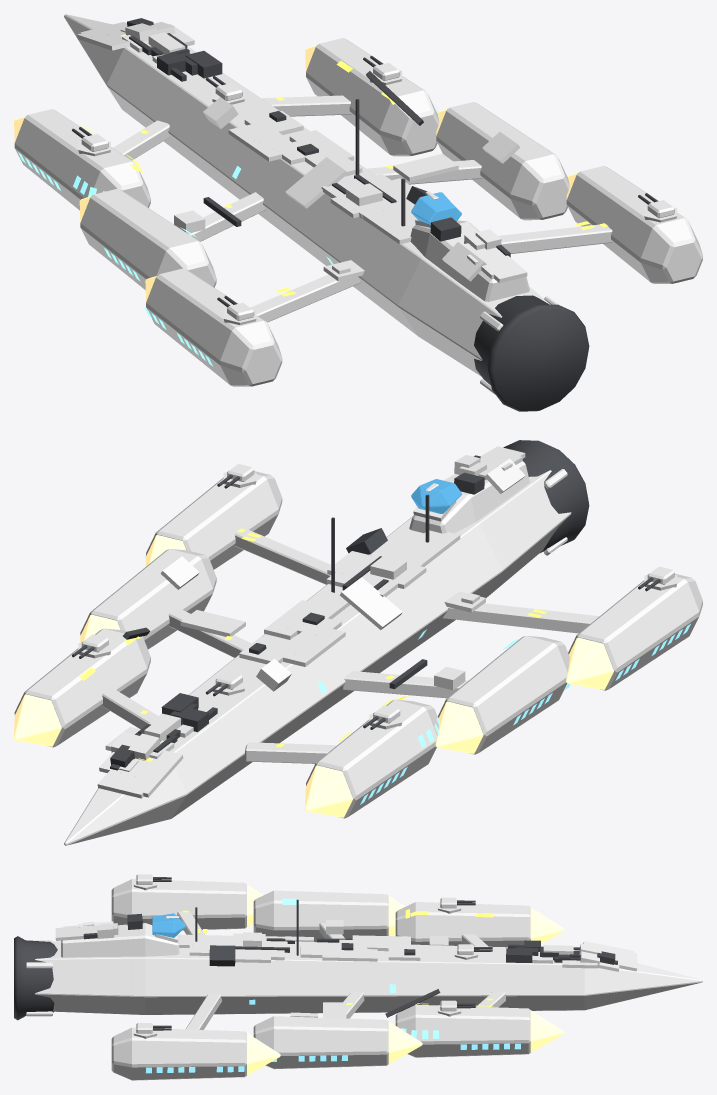
File: burya.glb
3 views of the same model, one above another, from view 1: azimuth 30°, elevation 25°; view 2: azimuth 150°, elevation 25°; view 3: azimuth 270°, elevation 25° (orthographic). The views are drawn at different scales.
Visible parts, largest first — view 1: Хребет, Накладные_плиты, Кожух_дюзы, Ракетная_капсула.005, Ракетная_капсула.004, Ракетная_капсула.002, Ракетная_капсула, Ракетная_капсула.003, Ракетная_капсула.001, Механика, Рубка, Пилон.004 (+7 smaller); view 2: Хребет, Накладные_плиты, Ракетная_капсула.003, Ракетная_капсула.005, Ракетная_капсула.001, Ракетная_капсула, Ракетная_капсула.004, Ракетная_капсула.002, Механика, Кожух_дюзы, Пилон.005, Рубка (+11 smaller); view 3: Хребет, Накладные_плиты, Ракетная_капсула.004, Ракетная_капсула.002, Ракетная_капсула, Ракетная_капсула.003, Ракетная_капсула.005, Ракетная_капсула.001, Механика, Кожух_дюзы, Рубка, Решётки (+11 smaller).
Part boxes in pixels (<box>): Хребет: <box>64,14,550,376</box>; Накладные_плиты: <box>77,21,527,283</box>; Кожух_дюзы: <box>474,295,589,411</box>; Ракетная_капсула.005: <box>146,268,282,386</box>; Ракетная_капсула.004: <box>566,166,702,283</box>; Ракетная_капсула.002: <box>436,102,569,220</box>; Ракетная_капсула: <box>306,38,439,156</box>; Ракетная_капсула.003: <box>80,188,216,289</box>; Ракетная_капсула.001: <box>14,109,150,210</box>; Механика: <box>127,18,510,257</box>; Рубка: <box>410,220,529,301</box>; Пилон.004: <box>498,224,612,253</box>; Хребет: <box>64,470,571,845</box>; Накладные_плиты: <box>97,446,525,798</box>; Ракетная_капсула.003: <box>438,635,569,754</box>; Ракетная_капсула.005: <box>568,573,702,690</box>; Ракетная_капсула.001: <box>306,699,438,818</box>; Ракетная_капсула: <box>14,628,150,747</box>; Ракетная_капсула.004: <box>146,471,282,569</box>; Ракетная_капсула.002: <box>80,549,216,649</box>; Механика: <box>110,455,484,770</box>; Кожух_дюзы: <box>503,440,589,552</box>; Пилон.005: <box>443,603,599,633</box>; Рубка: <box>409,461,529,533</box>; Хребет: <box>35,941,702,1014</box>; Накладные_плиты: <box>55,920,637,1018</box>; Ракетная_капсула.004: <box>111,1027,246,1080</box>; Ракетная_капсула.002: <box>253,1016,388,1069</box>; Ракетная_капсула: <box>395,1004,530,1057</box>; Ракетная_капсула.003: <box>253,890,388,942</box>; Ракетная_капсула.005: <box>111,879,246,930</box>; Ракетная_капсула.001: <box>395,902,530,947</box>; Механика: <box>83,899,617,1017</box>; Кожух_дюзы: <box>14,936,57,1020</box>; Рубка: <box>61,923,179,957</box>; Решётки: <box>146,898,520,1073</box>.
Size of the model in its own units: 1.19 by 0.3946 by 2.04.
